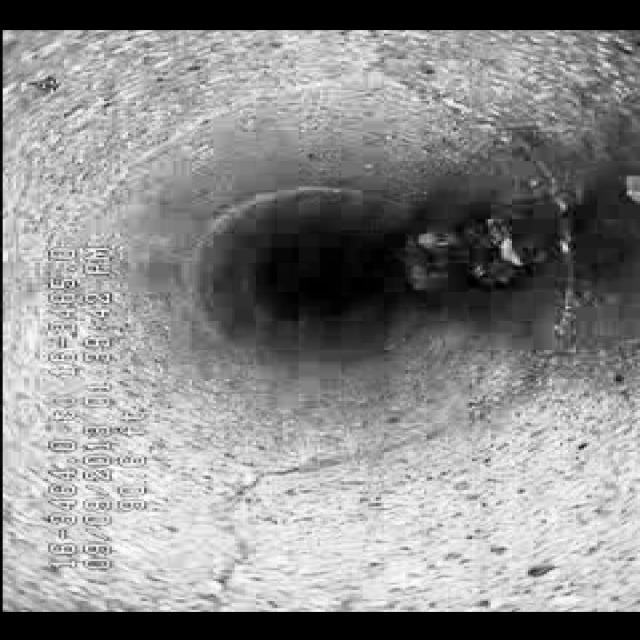Crack: (153, 400, 430, 598)
